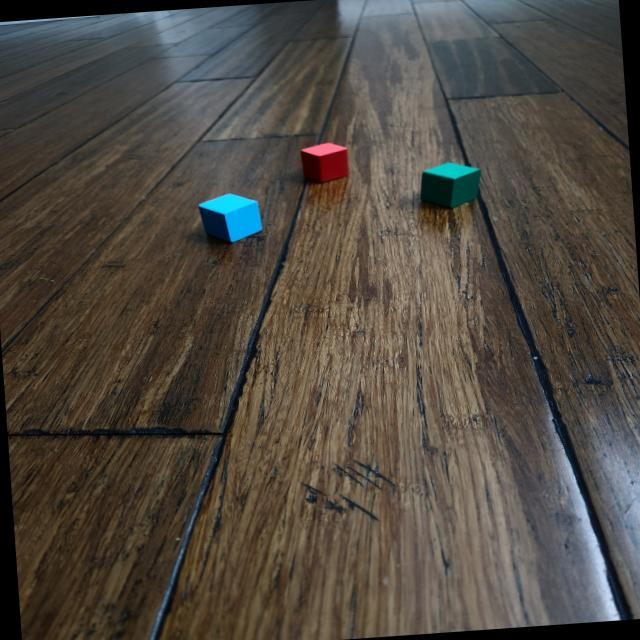bluecube: (196, 188, 264, 245)
green cube: (418, 158, 484, 212)
red cube: (299, 140, 350, 186)
